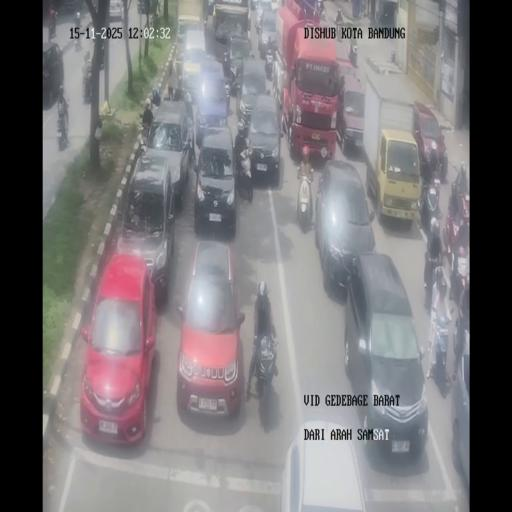car: (345, 255, 426, 458), (80, 251, 158, 442), (176, 241, 246, 421), (316, 159, 376, 294), (284, 421, 370, 510), (192, 126, 238, 238), (143, 100, 195, 198), (450, 330, 470, 502), (246, 95, 282, 186), (194, 68, 231, 145), (412, 102, 448, 180), (236, 55, 268, 114), (178, 28, 208, 88), (42, 43, 64, 108), (258, 8, 278, 58), (58, 0, 84, 15), (107, 0, 122, 22), (137, 0, 153, 14), (206, 0, 216, 16), (269, 0, 281, 12)
motorcycle: (246, 331, 279, 420), (426, 307, 452, 383), (423, 249, 445, 311), (296, 163, 314, 230), (449, 256, 469, 312), (235, 146, 254, 203), (56, 105, 70, 150), (430, 167, 442, 214), (225, 60, 239, 98), (140, 118, 154, 147), (81, 71, 92, 104), (264, 51, 274, 81), (348, 38, 358, 67), (150, 84, 161, 107), (98, 40, 105, 70), (49, 15, 57, 40), (336, 17, 344, 40), (74, 33, 82, 52), (122, 0, 128, 24), (318, 5, 326, 22), (75, 9, 81, 29), (150, 13, 157, 28), (155, 0, 161, 16), (203, 17, 208, 34)
truck: (276, 0, 339, 166), (362, 68, 418, 210), (337, 63, 365, 154), (212, 1, 251, 57)
